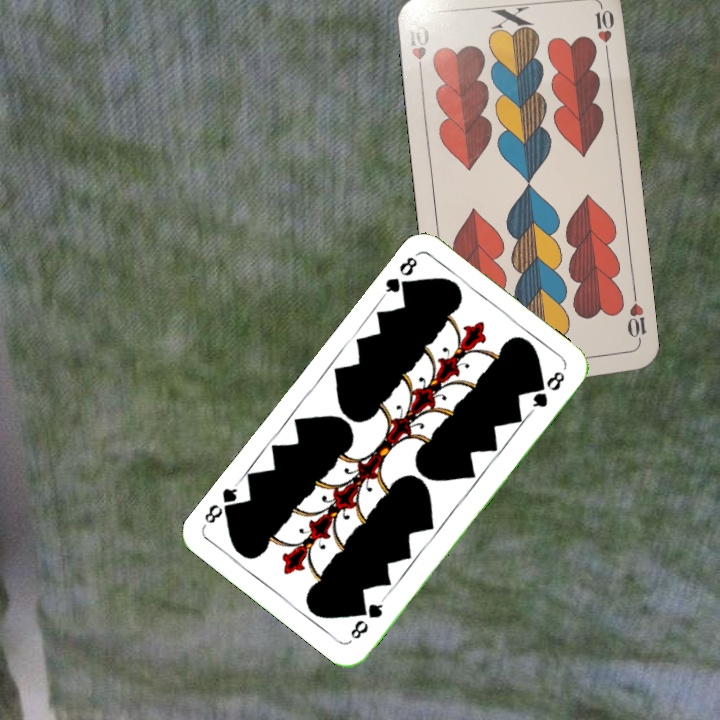G8: (378, 250, 420, 300), (346, 594, 388, 642)
H10: (403, 21, 432, 80), (623, 290, 649, 349)
